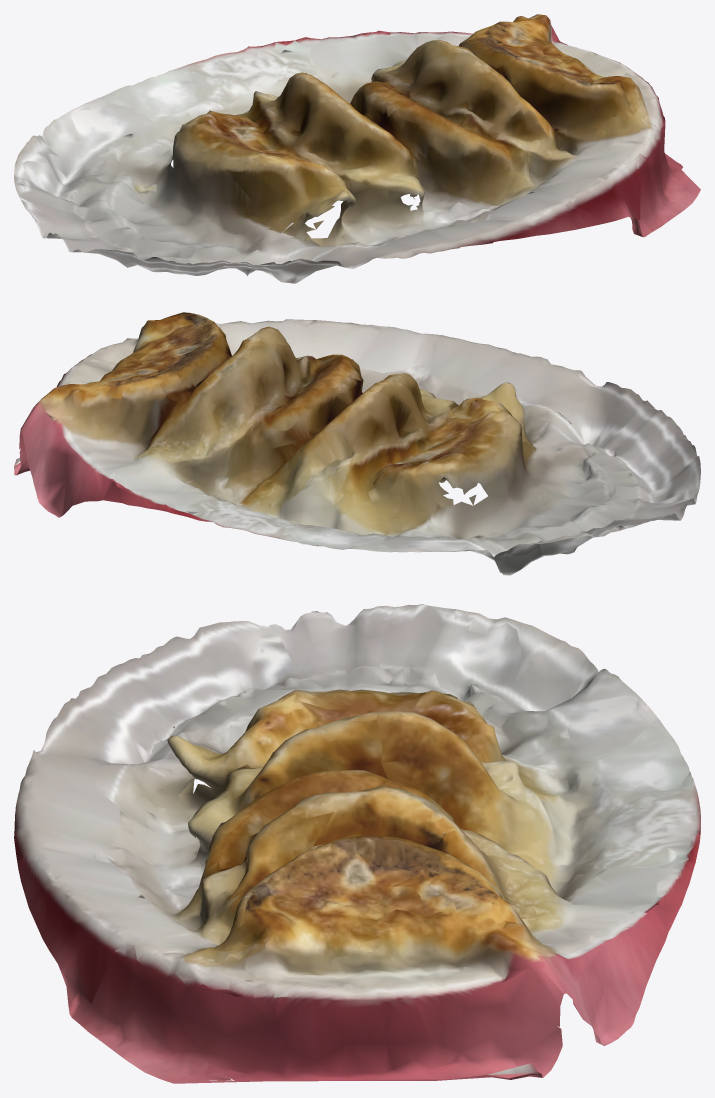
File: Gyoza.fbx
The picture shows the model from 3 angles, top to bottom: view 1: azimuth 30°, elevation 25°; view 2: azimuth 150°, elevation 25°; view 3: azimuth 270°, elevation 25°; orthographic projection. The views are drawn at different scales.
Parts seen in each view (by area): view 1: Gyoza; view 2: Gyoza; view 3: Gyoza.
Boxes of the visible parts, x1,y1,x2,y2 form: Gyoza: (14, 14, 700, 283); Gyoza: (14, 312, 700, 575); Gyoza: (14, 604, 700, 1083).
Size of the model in its own units: 0.2299 by 0.1681 by 0.0485.
1 material, 1 textured.
